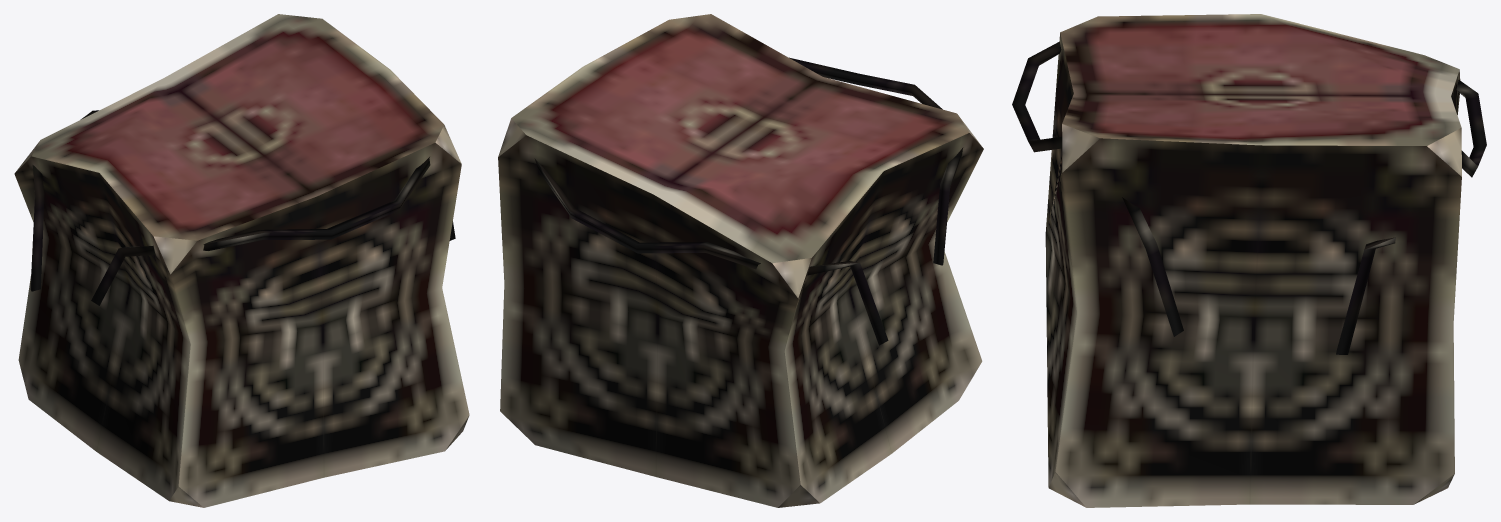
Rendered from general_obj_breakenbox03.glb.
The picture shows the model from 3 angles, left to right: view 1: azimuth 30°, elevation 25°; view 2: azimuth 150°, elevation 25°; view 3: azimuth 270°, elevation 25°; orthographic projection. The views are drawn at different scales.
Parts seen in each view (by area): view 1: Object03; view 2: Object03; view 3: Object03.
Boxes of the visible parts, x1,y1,x2,y2 form: Object03: [14, 14, 469, 507]; Object03: [498, 14, 983, 507]; Object03: [1012, 14, 1486, 507].
Size of the model in its own units: 1.16 by 0.9579 by 1.13.
Materials: 1 (1 with a texture image).
